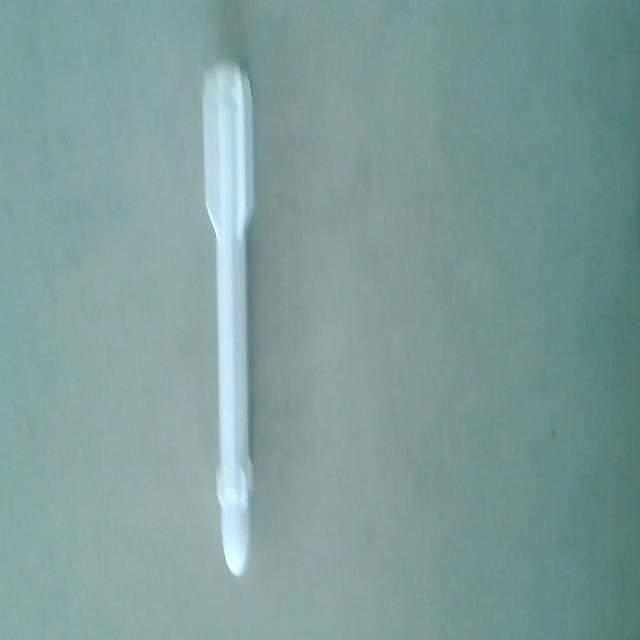Rocket: (196, 61, 256, 580)
